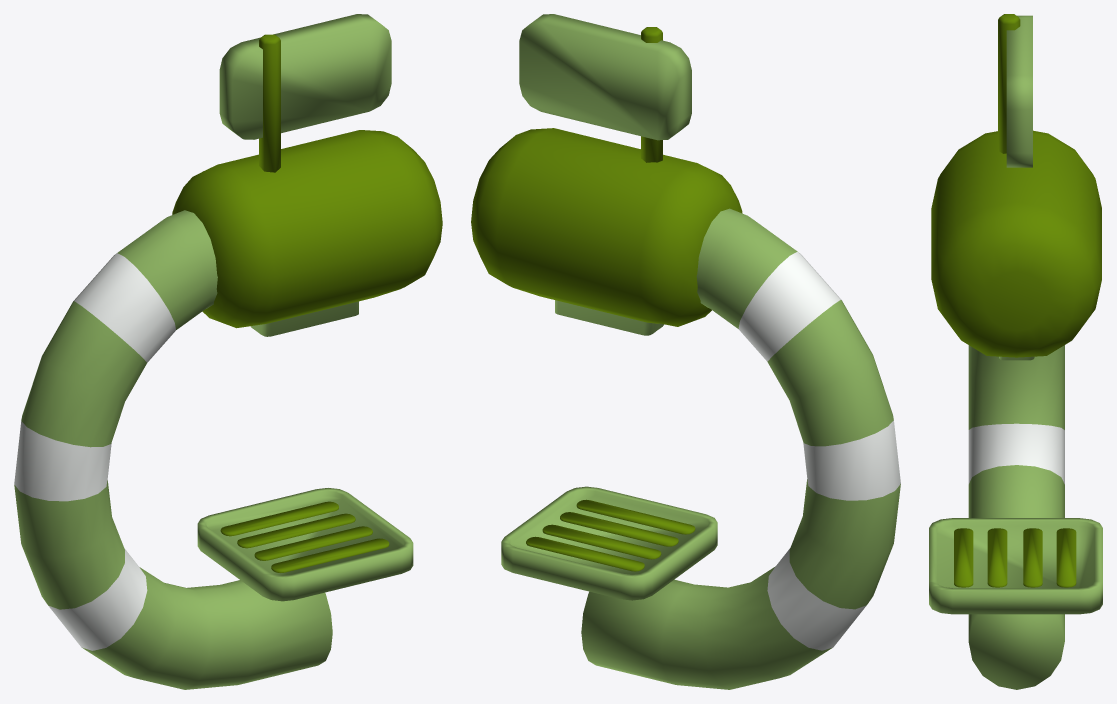
Rendered from Liquid food machine3.fbx.
The picture shows the model from 3 angles, left to right: view 1: azimuth 30°, elevation 25°; view 2: azimuth 150°, elevation 25°; view 3: azimuth 270°, elevation 25°; orthographic projection. The views are drawn at different scales.
Parts seen in each view (by area): view 1: Cylinder.028, Cylinder.029, Cube.079, Cube.080, Cylinder.030, Cube.083, Cube.081, Cube.082, Cube.084; view 2: Cylinder.028, Cylinder.029, Cube.079, Cube.080, Cube.083, Cube.081, Cube.084, Cube.082, Cylinder.030; view 3: Cylinder.029, Cylinder.028, Cube.080, Cube.079, Cylinder.030, Cube.082, Cube.084, Cube.083, Cube.081.
Boxes of the visible parts, box(x1,y1,x2,y2) form: Cylinder.028: box(14, 210, 332, 689); Cylinder.029: box(172, 130, 442, 336); Cube.079: box(219, 14, 391, 139); Cube.080: box(197, 488, 413, 601); Cylinder.030: box(259, 34, 280, 172); Cube.083: box(271, 538, 389, 572); Cube.081: box(237, 513, 355, 548); Cube.082: box(254, 526, 372, 560); Cube.084: box(220, 501, 338, 536); Cylinder.028: box(581, 208, 900, 689); Cylinder.029: box(471, 128, 742, 335); Cube.079: box(519, 14, 691, 140); Cube.080: box(501, 486, 717, 600); Cube.083: box(576, 499, 695, 534); Cube.081: box(542, 524, 661, 559); Cube.084: box(526, 536, 644, 571); Cube.082: box(560, 512, 678, 546); Cylinder.030: box(641, 27, 662, 162); Cylinder.029: box(931, 130, 1101, 360); Cylinder.028: box(968, 345, 1064, 689); Cube.080: box(929, 518, 1102, 614); Cube.079: box(1006, 15, 1032, 167); Cylinder.030: box(998, 14, 1020, 153); Cube.082: box(987, 528, 1007, 587); Cube.084: box(1056, 528, 1076, 587); Cube.083: box(954, 528, 973, 587); Cube.081: box(1023, 528, 1042, 587).
Bounding box in the file's own units: 126 × 193 × 46.56.
